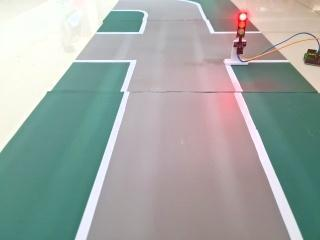red: (231, 8, 251, 43)
